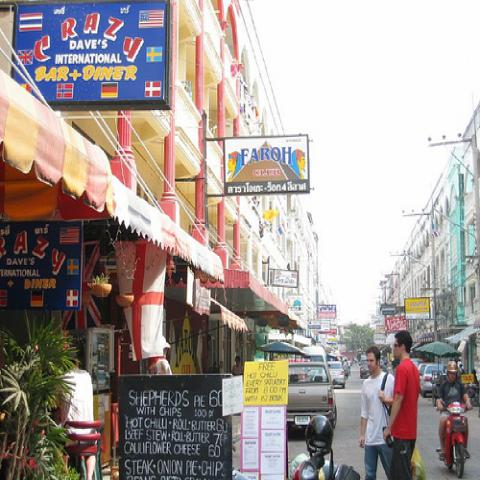car: (286, 362, 339, 439), (420, 364, 446, 398), (327, 361, 345, 388), (417, 364, 428, 394), (360, 360, 372, 378)
motorcycle: (288, 418, 359, 474), (441, 396, 471, 472), (286, 471, 363, 479)
truck: (327, 360, 346, 390)
